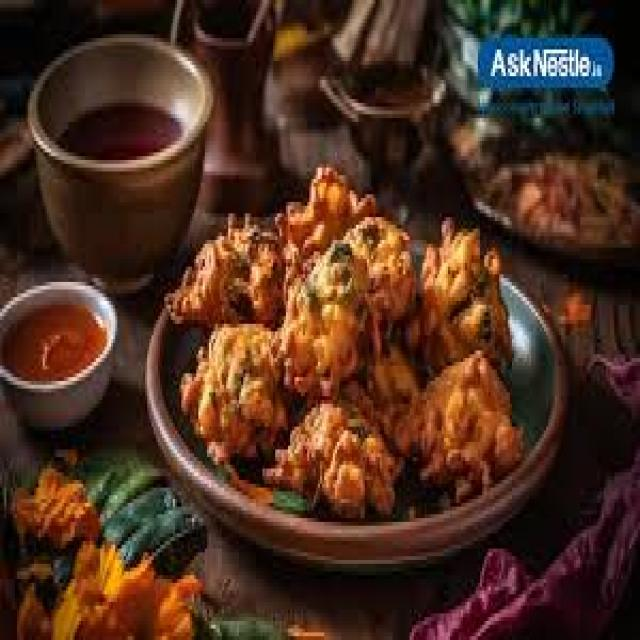BAJI: (405, 231, 506, 379), (185, 324, 283, 462), (264, 408, 386, 516), (291, 248, 366, 409), (409, 362, 512, 477), (275, 179, 362, 305), (174, 231, 280, 330), (353, 351, 407, 471), (348, 227, 411, 322)
